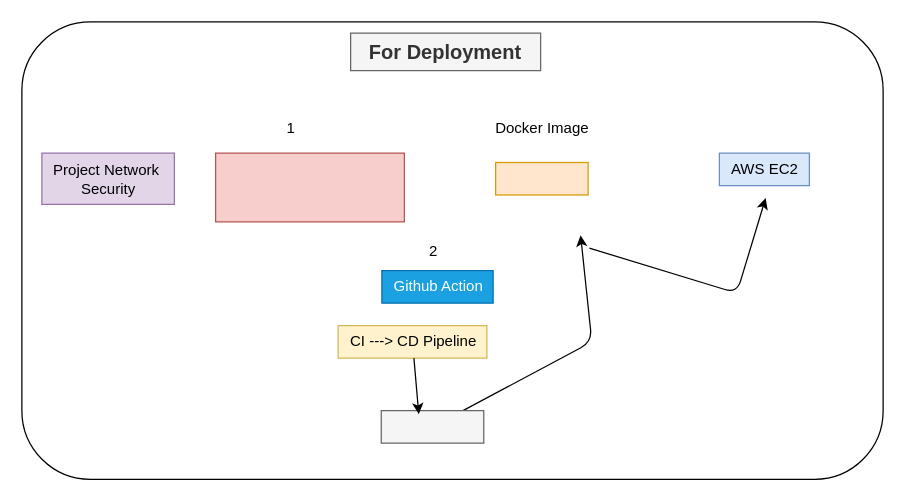
The diagram is 905 pixels wide and 501 high, and some of its shapes have lost their labels. Here are the shapes that lost their labels. From the top down, the centre of each, then its label:
At (x=309, y=187): "Creating a Docker Image of Project".
At (x=541, y=178): "AWS ECR".
At (x=432, y=426): "App Runner".
